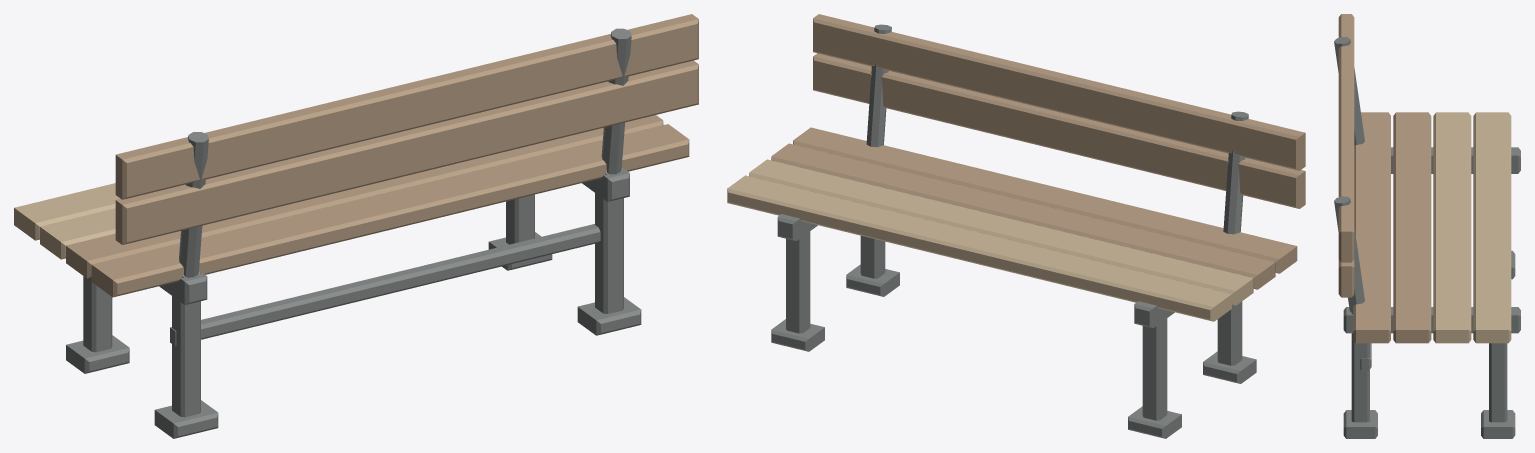
File: Bench.fbx
3 views of the same model, side by side, from view 1: azimuth 30°, elevation 25°; view 2: azimuth 150°, elevation 25°; view 3: azimuth 270°, elevation 25° (orthographic). The views are drawn at different scales.
Visible parts, largest first — view 1: Body__Timber.007, Body__Steel.005, Body__TimberLight.006; view 2: Body__Timber.007, Body__TimberLight.006, Body__Steel.005; view 3: Body__Timber.007, Body__TimberLight.006, Body__Steel.005.
Boxes of the visible parts, x1,y1,x2,y2 form: Body__Timber.007: [66, 14, 698, 297]; Body__Steel.005: [66, 28, 641, 438]; Body__TimberLight.006: [14, 183, 119, 259]; Body__Timber.007: [771, 14, 1305, 289]; Body__TimberLight.006: [727, 159, 1253, 321]; Body__Steel.005: [771, 24, 1256, 438]; Body__Timber.007: [1338, 14, 1431, 343]; Body__TimberLight.006: [1433, 112, 1511, 343]; Body__Steel.005: [1334, 37, 1520, 438].
Bounding box in the file's own units: 1.8 × 0.8937 × 0.6538.
